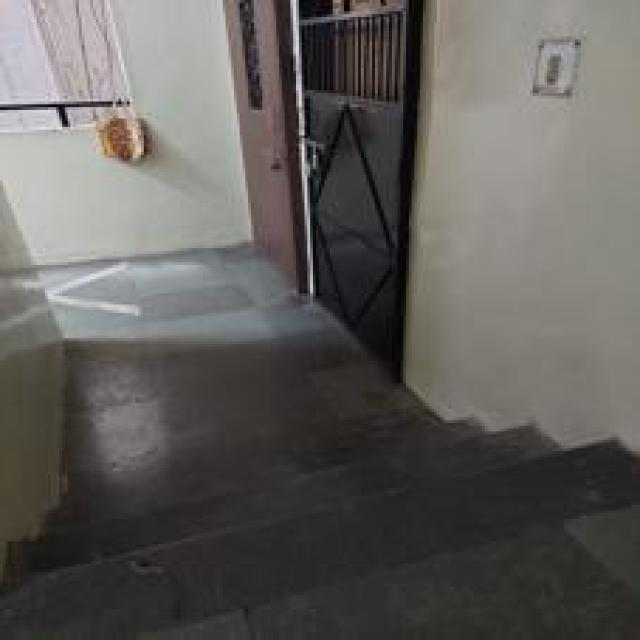downstair: (114, 418, 503, 585)
